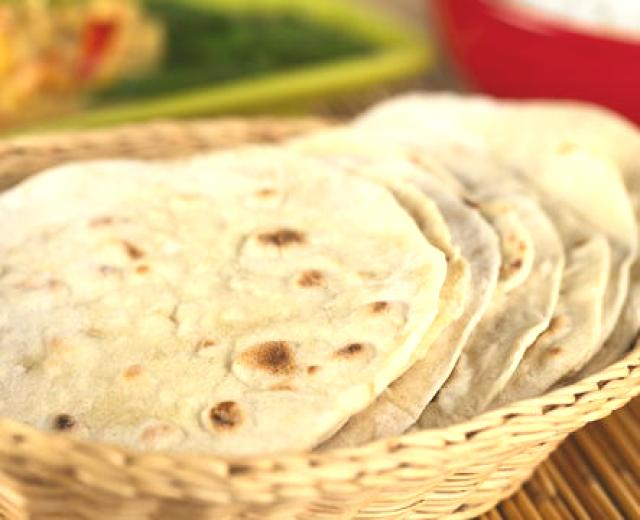chapati: (0, 96, 636, 454)
